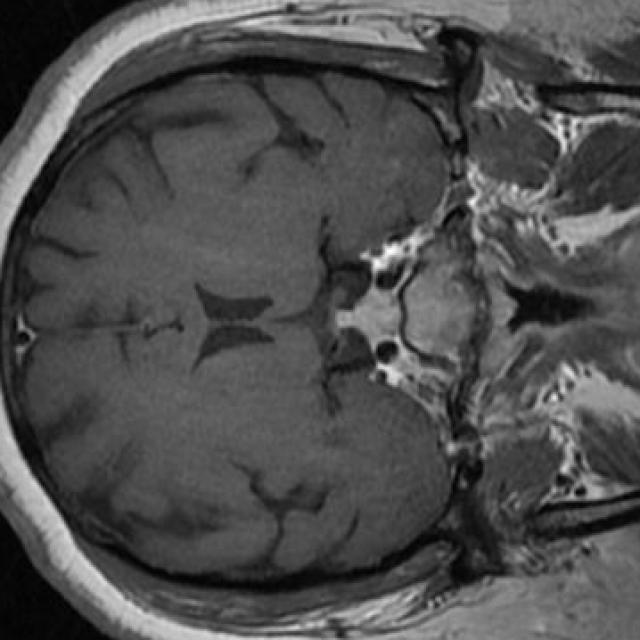pituitary: (335, 289, 399, 344)
